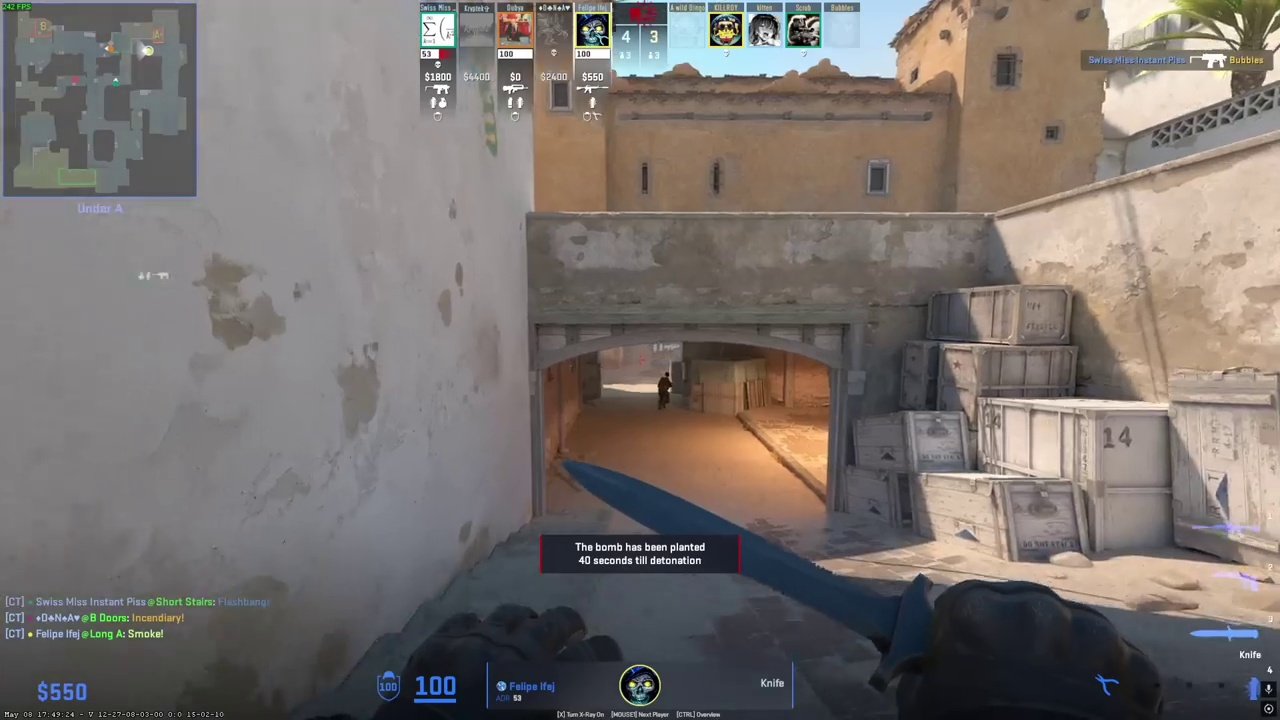CT: (658, 372, 672, 409)
